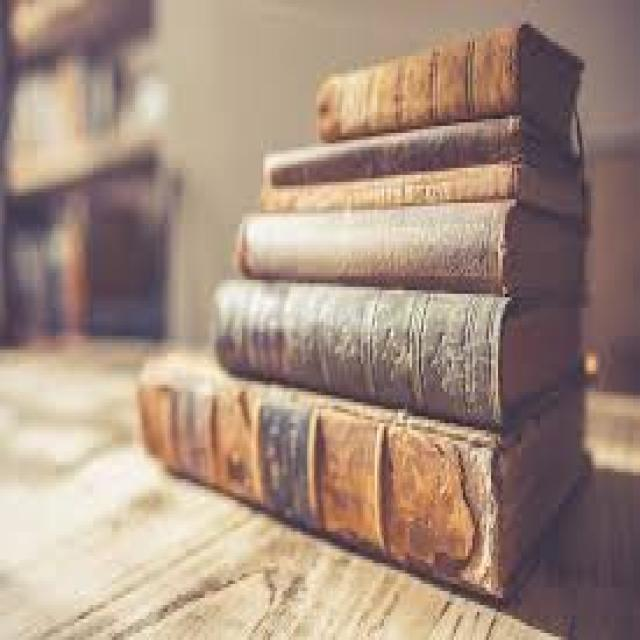paper: (135, 350, 591, 609), (214, 273, 580, 427), (231, 196, 584, 301), (312, 17, 582, 147), (259, 108, 580, 182), (256, 165, 584, 214)
